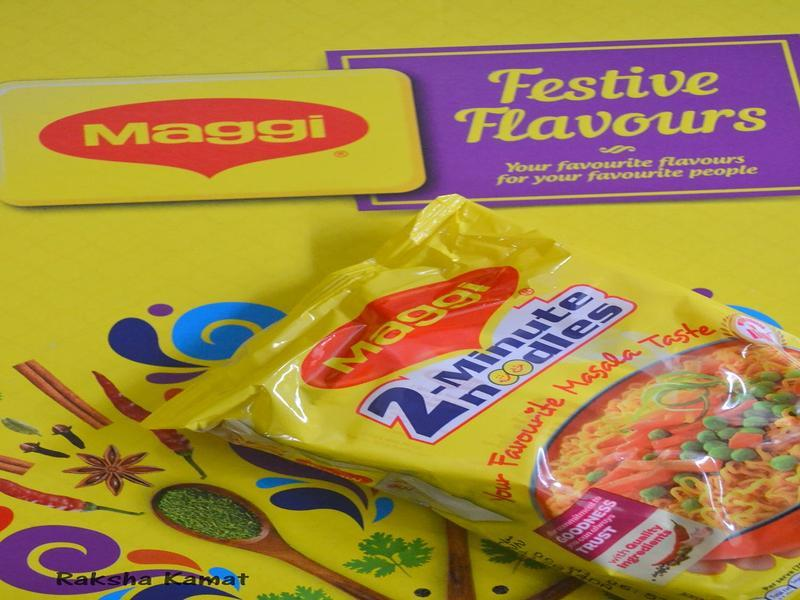maggi-small: (247, 192, 800, 592)
